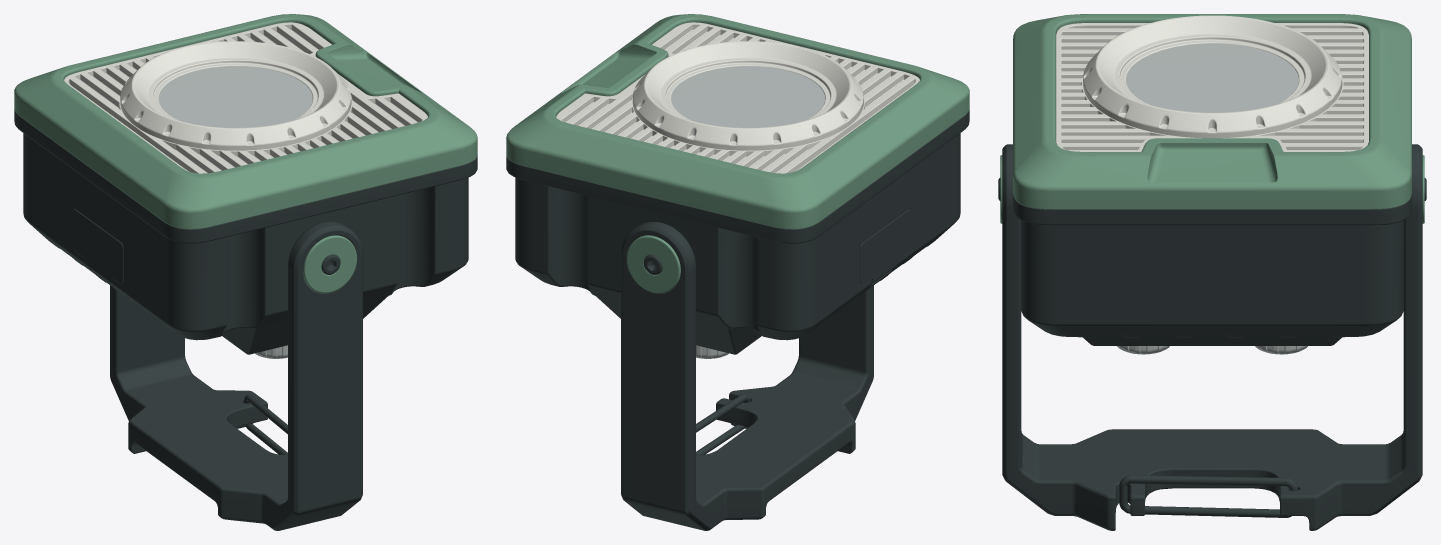
File: lighting_taskLight_portableWork_a01.glb
The picture shows the model from 3 angles, left to right: view 1: azimuth 30°, elevation 25°; view 2: azimuth 150°, elevation 25°; view 3: azimuth 270°, elevation 25°; orthographic projection. The views are drawn at different scales.
Bounding box in the file's own units: 0.1131 × 0.1358 × 0.1214.
